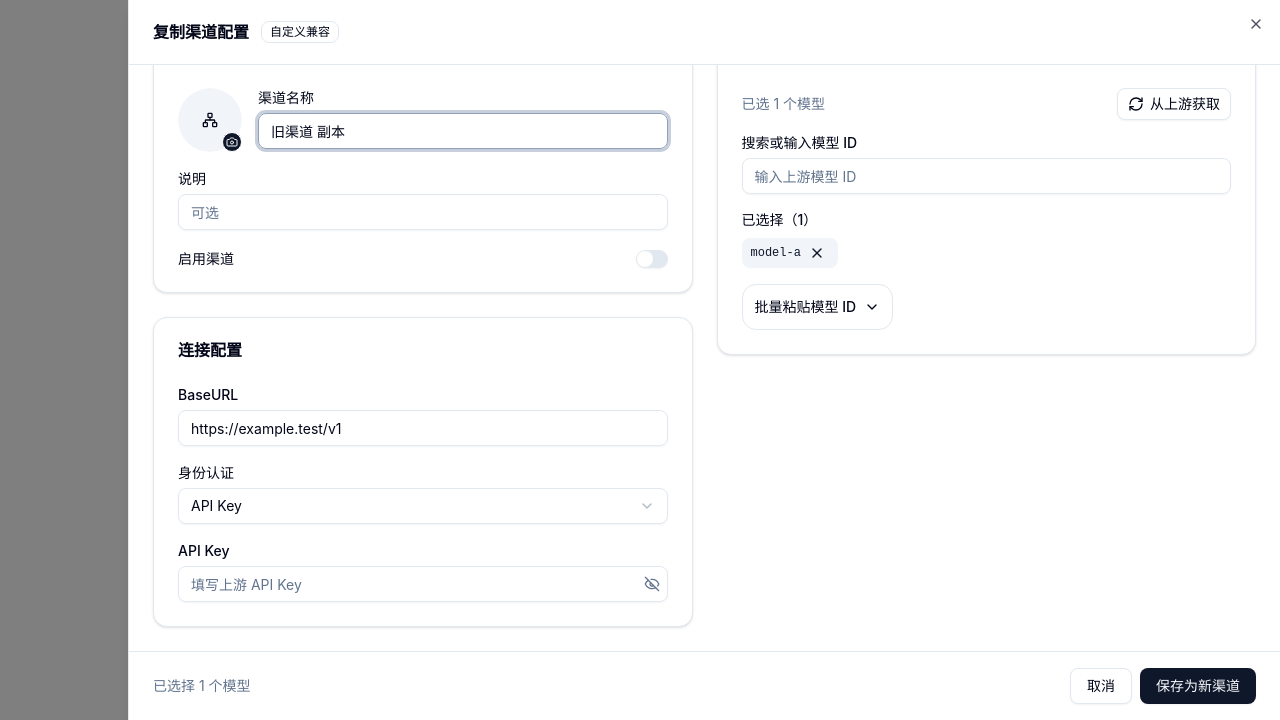
Test: holds an uncertain create for the receipt and never sends a second POST
The image size is (1280, 720).
(page scrolled)
Step 1. Type "new-fake-key" into the password field labelled "API Key" → (423, 584), box [178,566,668,602]
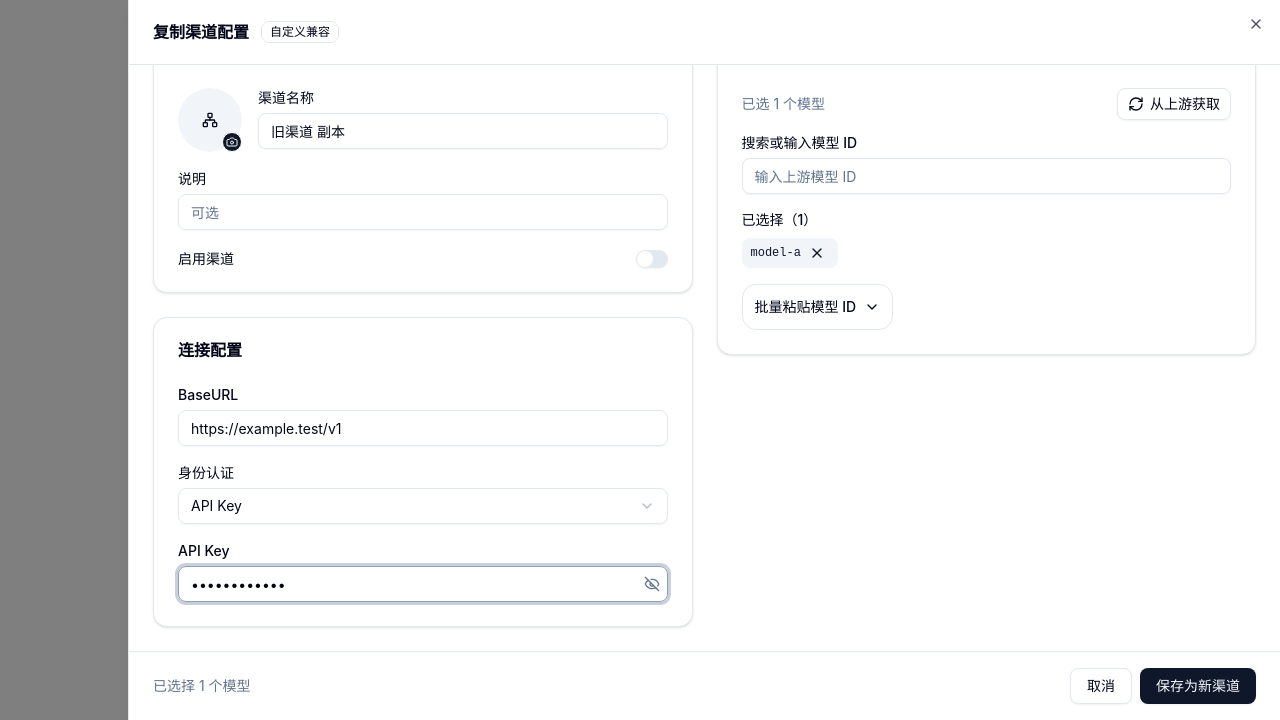
Step 2. Click the button "保存为新渠道" → (1198, 686), box [1140,668,1256,704]
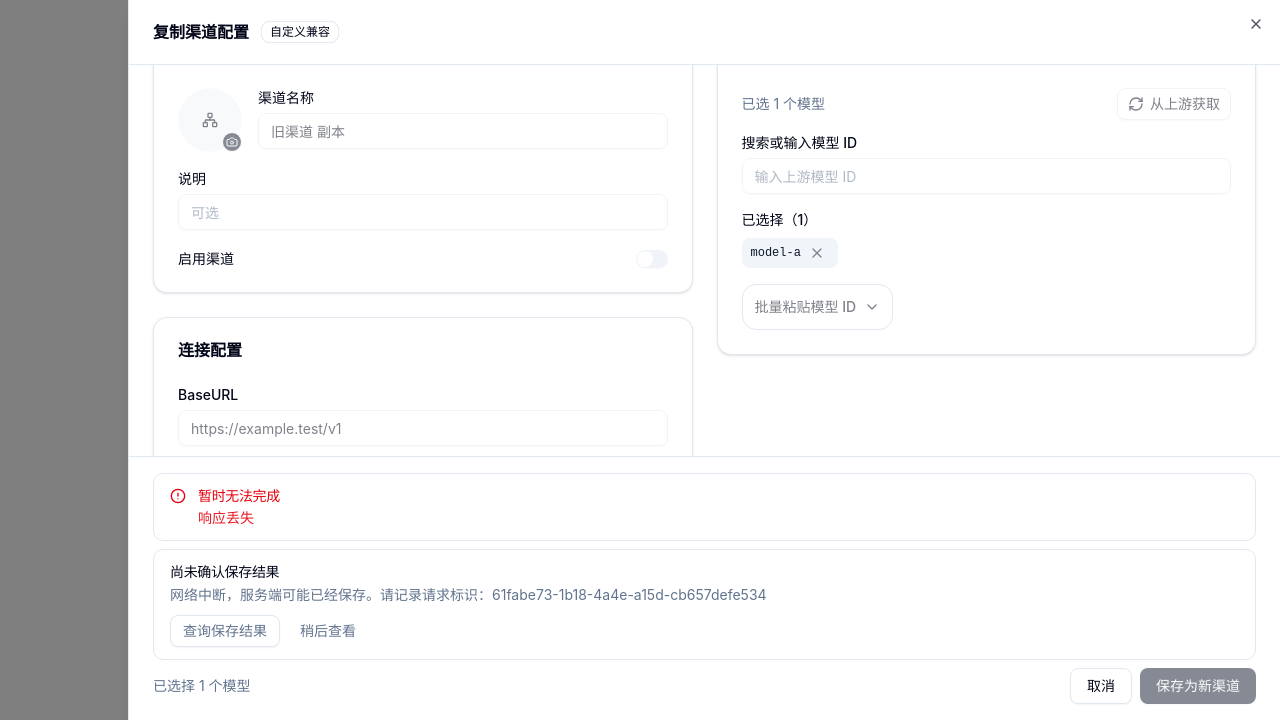
Now the text "尚未确认保存结果" is shown, box [170,563,279,580]
Now the button "保存为新渠道" is disabled, box [1140,668,1256,704]
Step 3. Click the button "查询保存结果" → (225, 631), box [170,615,280,647]
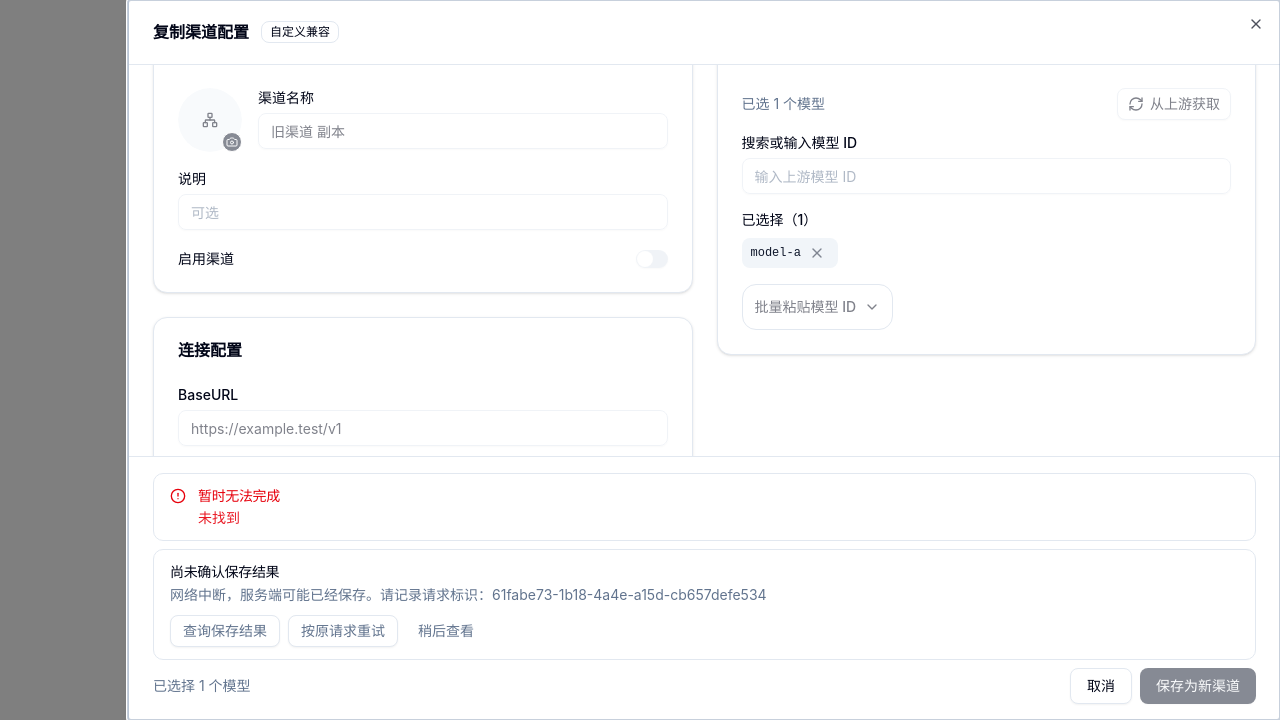
Now the button "按原请求重试" is shown, box [288,615,398,647]
